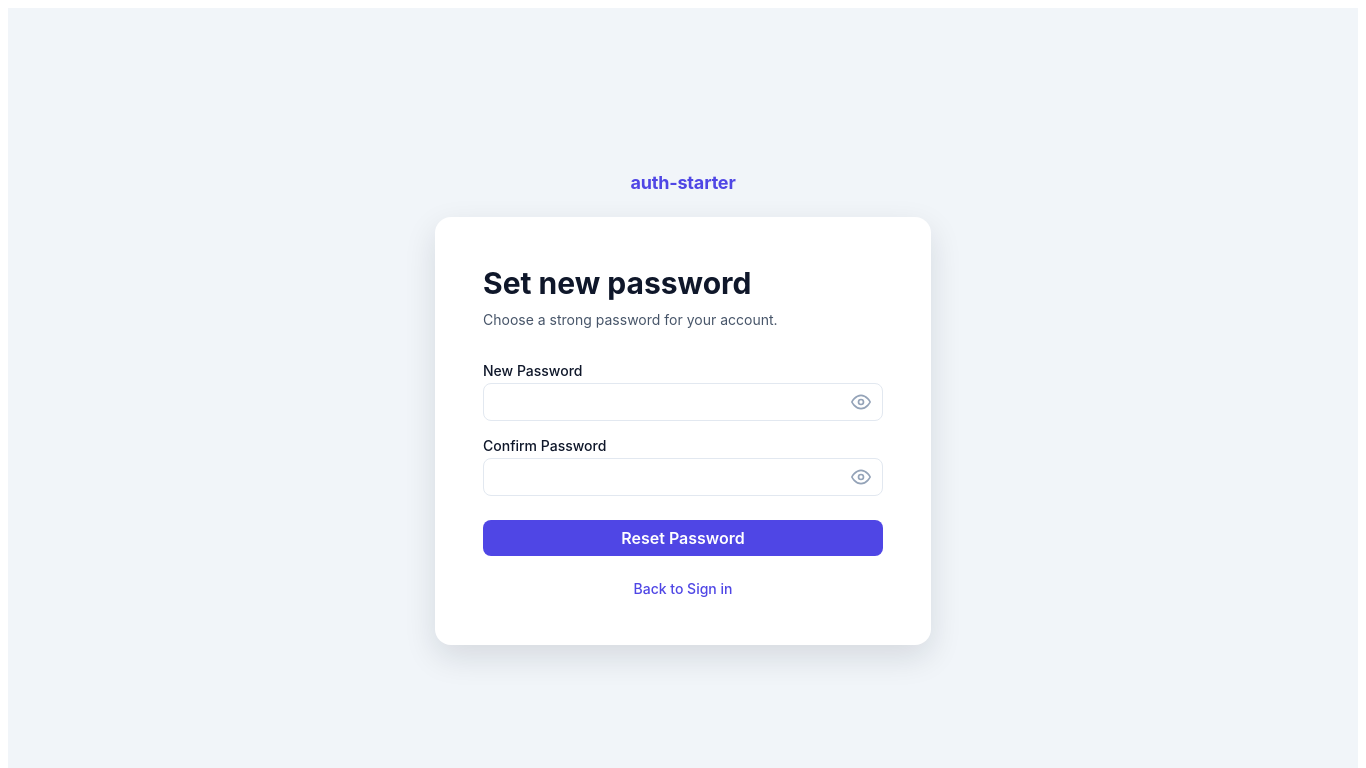
Test: Password visibility toggle › toggles confirm password field visibility
The image size is (1366, 768).
Click the button named "Show confirm password" at (861, 476), box top-left (847, 462), bottom-right (875, 490)
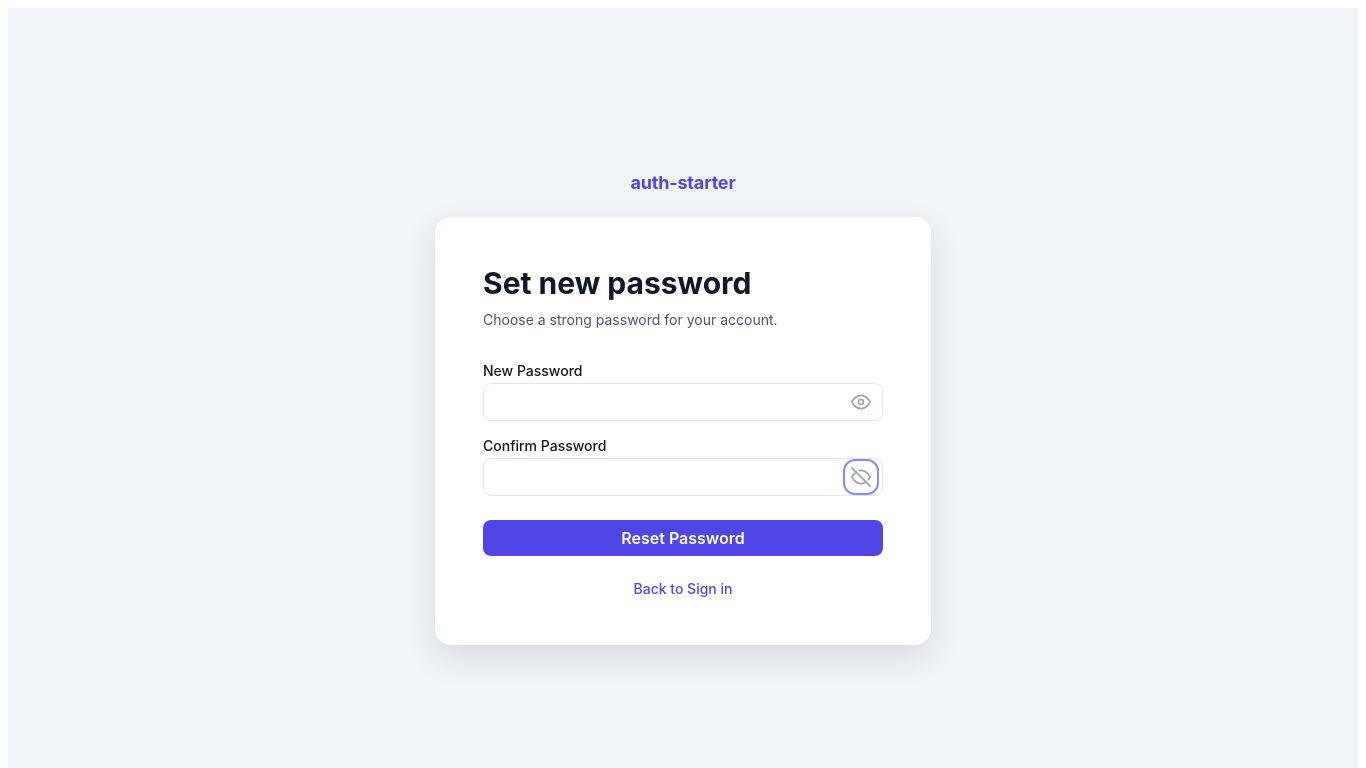
Expected: the button named "Hide confirm password" is shown, top-left (847, 462), bottom-right (875, 490)
